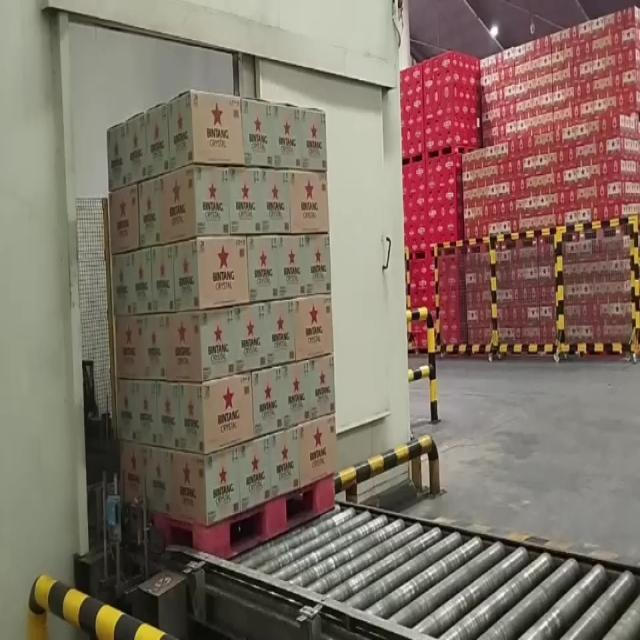pallet: (95, 79, 341, 566)
